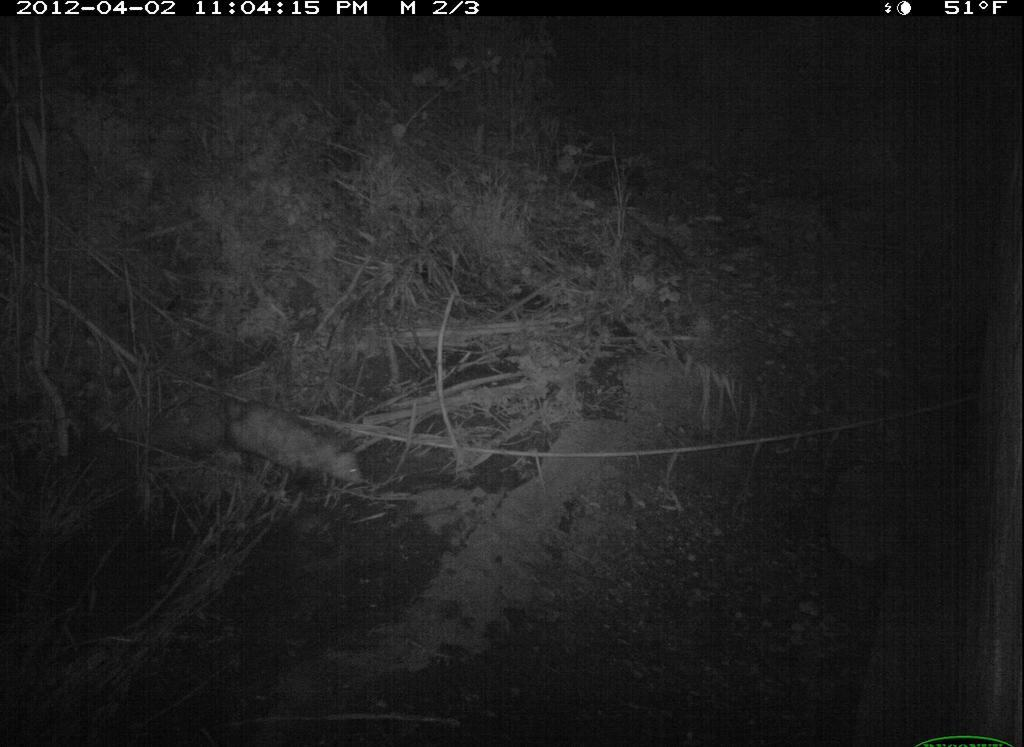opossum: (210, 395, 405, 496)
